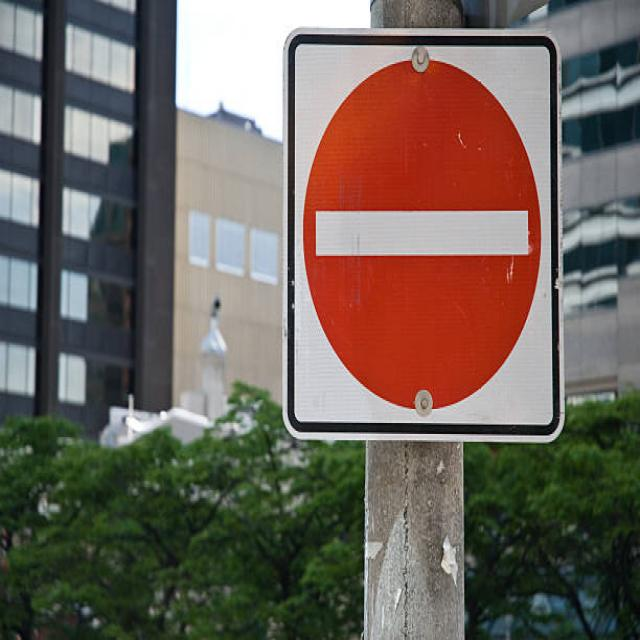do_not_enter: (298, 50, 546, 417)
